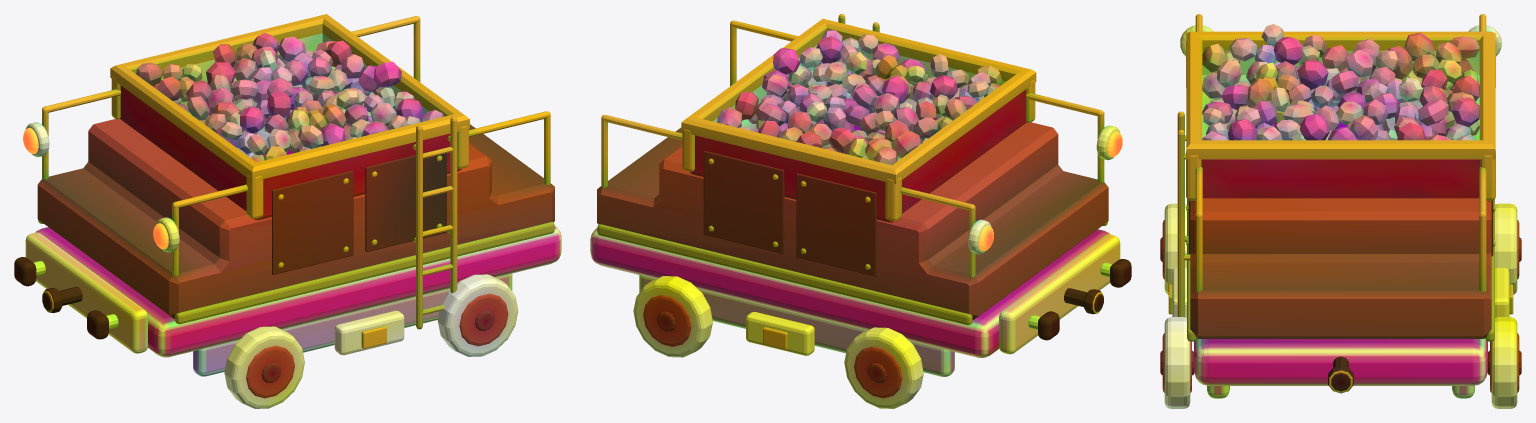
File: Tender_Blockout.fbx
3 renders of one model, left to right at view 1: azimuth 30°, elevation 25°; view 2: azimuth 150°, elevation 25°; view 3: azimuth 270°, elevation 25°, orthographic. The views are drawn at different scales.
Visible parts, largest first — view 1: Body, Frame, Wheels, DeckRails, Ladder, TailLights, Coupler_Rear, CoalChunk104, CoalChunk141, CoalChunk140, CoalChunk122; view 2: Body, Frame, Wheels, DeckRails, TailLights, Coupler_Rear, CoalChunk104, CoalChunk128, CoalChunk82, CoalChunk93, CoalChunk46, CoalChunk141; view 3: Body, Frame, Wheels, DeckRails, Ladder, Coupler_Front, CoalChunk140, CoalChunk104, CoalChunk112, CoalChunk141, CoalChunk122, CoalChunk82 (+35 smaller).
Part boxes in pixels (bbox=[...]): Body: bbox=[37, 14, 554, 324]; Frame: bbox=[14, 225, 561, 376]; Wheels: bbox=[224, 274, 518, 408]; DeckRails: bbox=[42, 16, 550, 276]; Ladder: bbox=[413, 116, 457, 329]; TailLights: bbox=[23, 122, 179, 252]; Coupler_Rear: bbox=[42, 286, 82, 312]; CoalChunk104: bbox=[373, 61, 401, 87]; CoalChunk141: bbox=[240, 107, 265, 133]; CoalChunk140: bbox=[267, 90, 290, 117]; CoalChunk122: bbox=[277, 36, 305, 61]; Body: bbox=[597, 18, 1108, 325]; Frame: bbox=[590, 228, 1131, 376]; Wheels: bbox=[633, 276, 923, 408]; DeckRails: bbox=[601, 20, 1104, 277]; TailLights: bbox=[968, 125, 1122, 254]; Coupler_Rear: bbox=[1064, 288, 1103, 314]; CoalChunk104: bbox=[773, 48, 799, 74]; CoalChunk128: bbox=[816, 36, 843, 63]; CoalChunk82: bbox=[891, 131, 920, 158]; CoalChunk93: bbox=[735, 92, 758, 119]; CoalChunk46: bbox=[828, 127, 855, 153]; CoalChunk141: bbox=[930, 75, 957, 99]; Body: bbox=[1186, 31, 1495, 341]; Frame: bbox=[1194, 338, 1487, 398]; Wheels: bbox=[1160, 203, 1521, 408]; DeckRails: bbox=[1195, 14, 1486, 291]; Ladder: bbox=[1177, 111, 1190, 317]; Coupler_Front: bbox=[1328, 356, 1353, 393]; CoalChunk140: bbox=[1297, 60, 1328, 89]; CoalChunk104: bbox=[1300, 114, 1330, 140]; CoalChunk112: bbox=[1451, 97, 1479, 126]; CoalChunk141: bbox=[1273, 37, 1302, 64]; CoalChunk122: bbox=[1418, 99, 1448, 125]; CoalChunk82: bbox=[1404, 32, 1434, 60].
Size of the model in its own units: 4.79 by 2.37 by 2.83.
